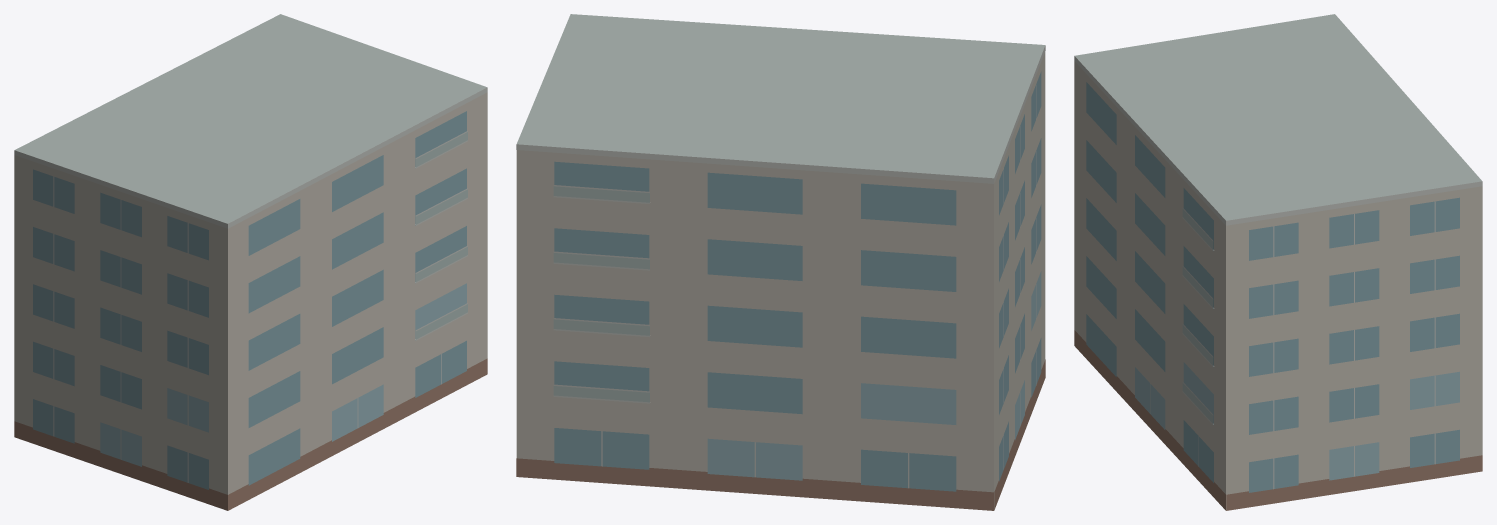
The model's file is survey-upis-32843946.glb.
3 views of the same model, side by side, from view 1: azimuth 30°, elevation 25°; view 2: azimuth 150°, elevation 25°; view 3: azimuth 270°, elevation 25° (orthographic). The views are drawn at different scales.
Parts seen in each view (by area): view 1: survey-upis-32843946.tmp; view 2: survey-upis-32843946.tmp; view 3: survey-upis-32843946.tmp.
Boxes of the visible parts, x1,y1,x2,y2 form: survey-upis-32843946.tmp: [14, 14, 487, 510]; survey-upis-32843946.tmp: [516, 14, 1045, 510]; survey-upis-32843946.tmp: [1074, 14, 1482, 510].
Size of the model in its own units: 22.03 by 14.4 by 18.37.
